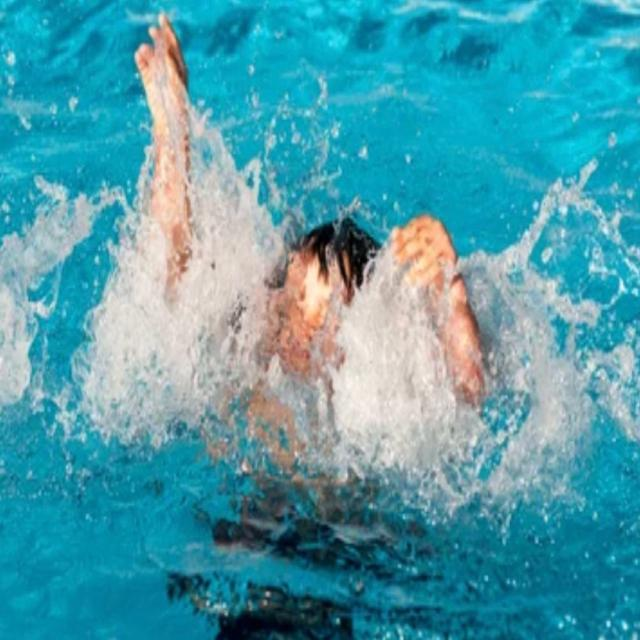Drowning: (125, 14, 489, 488)
